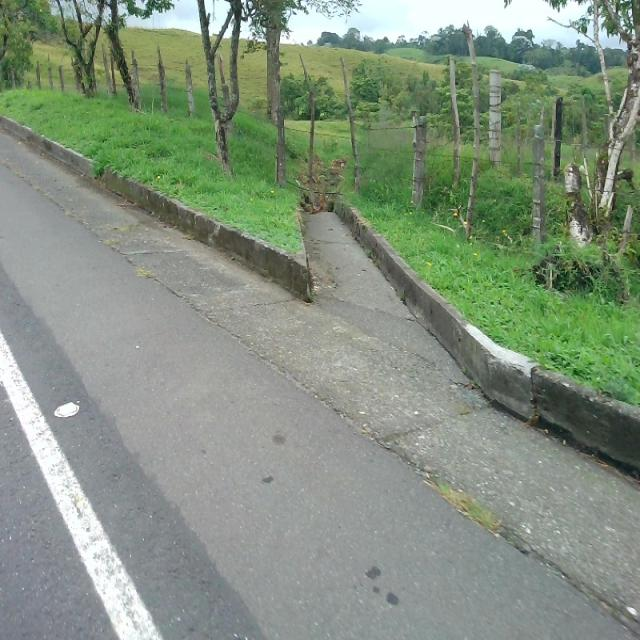DITCH: (1, 115, 638, 638)
